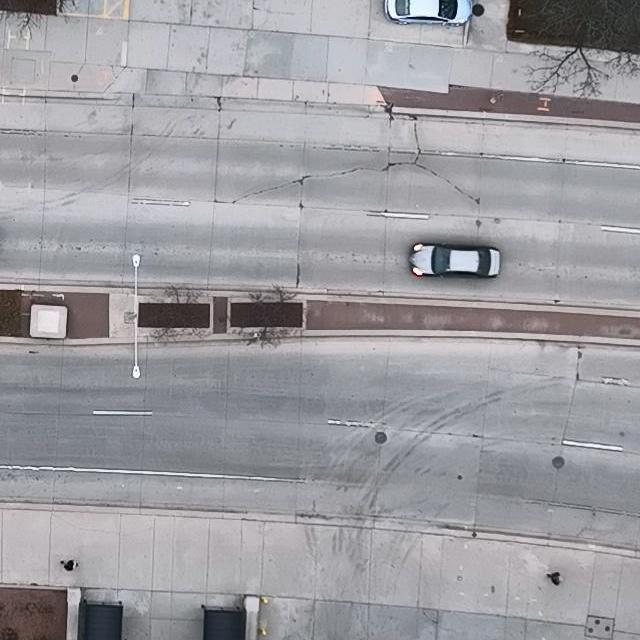car: (409, 243, 500, 278), (385, 0, 473, 26)
